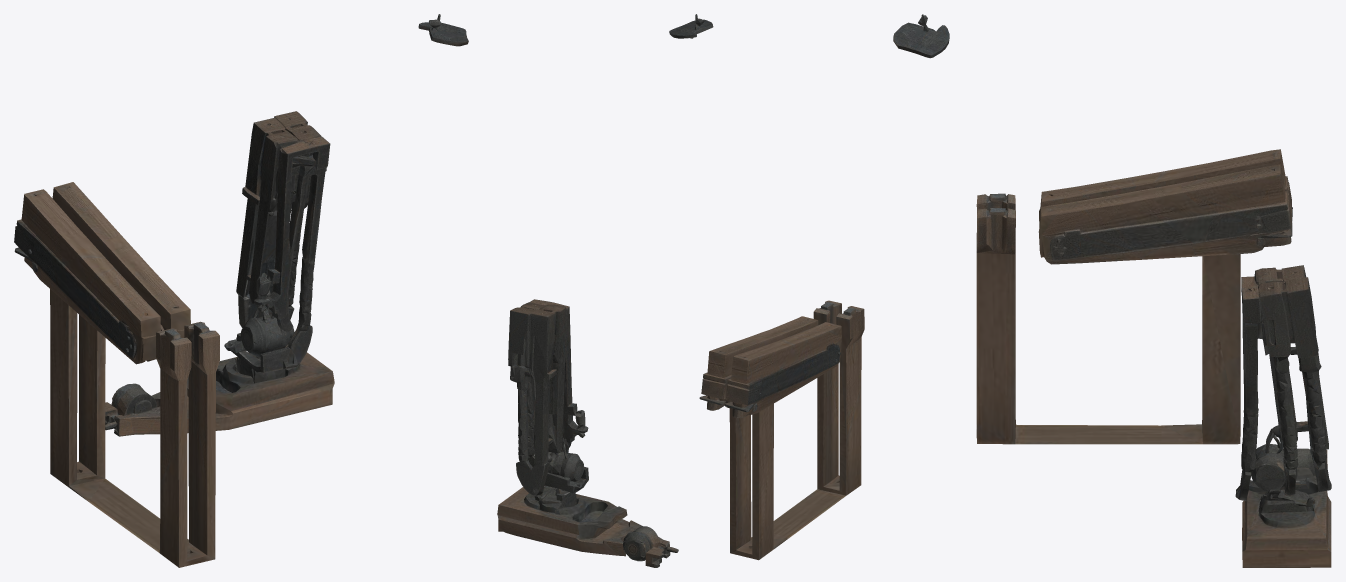
The model's file is workbench.glb.
3 views of the same model, side by side, from view 1: azimuth 30°, elevation 25°; view 2: azimuth 150°, elevation 25°; view 3: azimuth 270°, elevation 25° (orthographic). The views are drawn at different scales.
Size of the model in its own units: 0.9426 by 1.56 by 1.17.
1 material, 1 textured.
